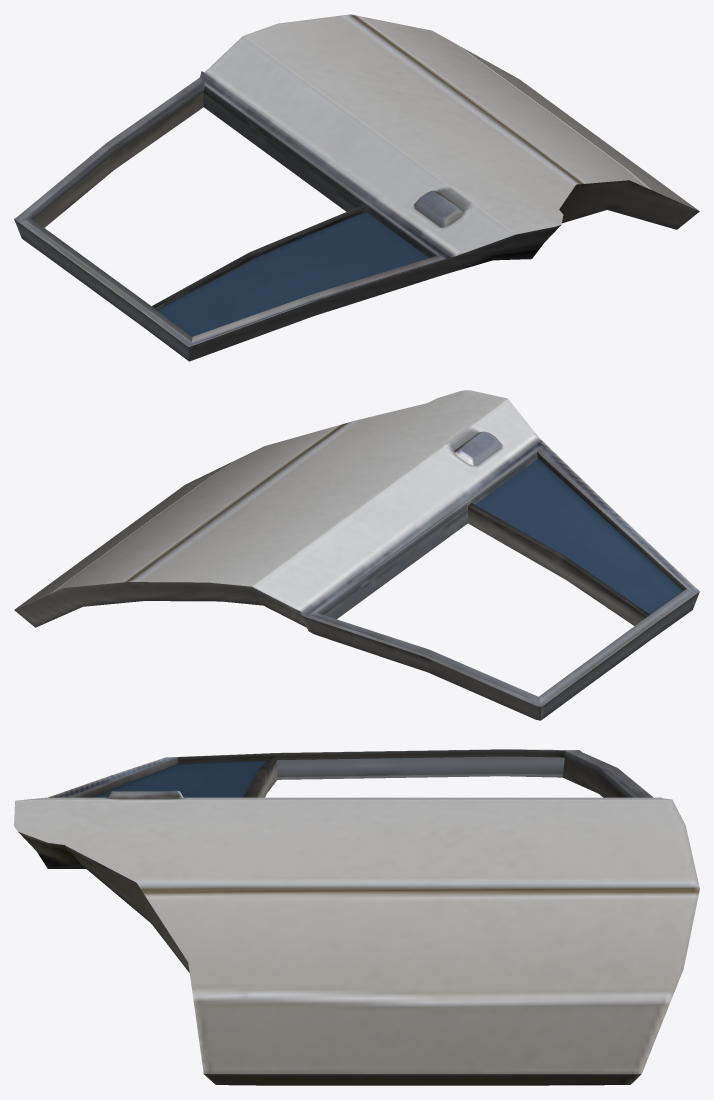
Rendered from CapriceRearDoor_WorldItem.fbx.
The picture shows the model from 3 angles, top to bottom: view 1: azimuth 30°, elevation 25°; view 2: azimuth 150°, elevation 25°; view 3: azimuth 270°, elevation 25°; orthographic projection. The views are drawn at different scales.
Parts seen in each view (by area): view 1: RearRightDoor_obj; view 2: RearRightDoor_obj; view 3: RearRightDoor_obj.
Boxes of the visible parts, x1=… form: RearRightDoor_obj: x1=14, y1=14, x2=699, y2=361; RearRightDoor_obj: x1=14, y1=390, x2=699, y2=720; RearRightDoor_obj: x1=14, y1=749, x2=699, y2=1085.
Bounding box in the file's own units: 1.75 × 0.3651 × 1.62.
